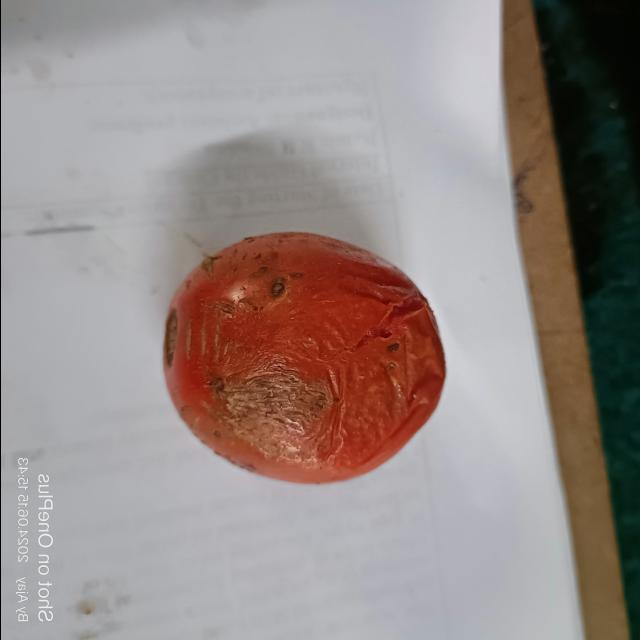Botrytis: (220, 378, 340, 456), (356, 294, 429, 360), (264, 276, 288, 297)
